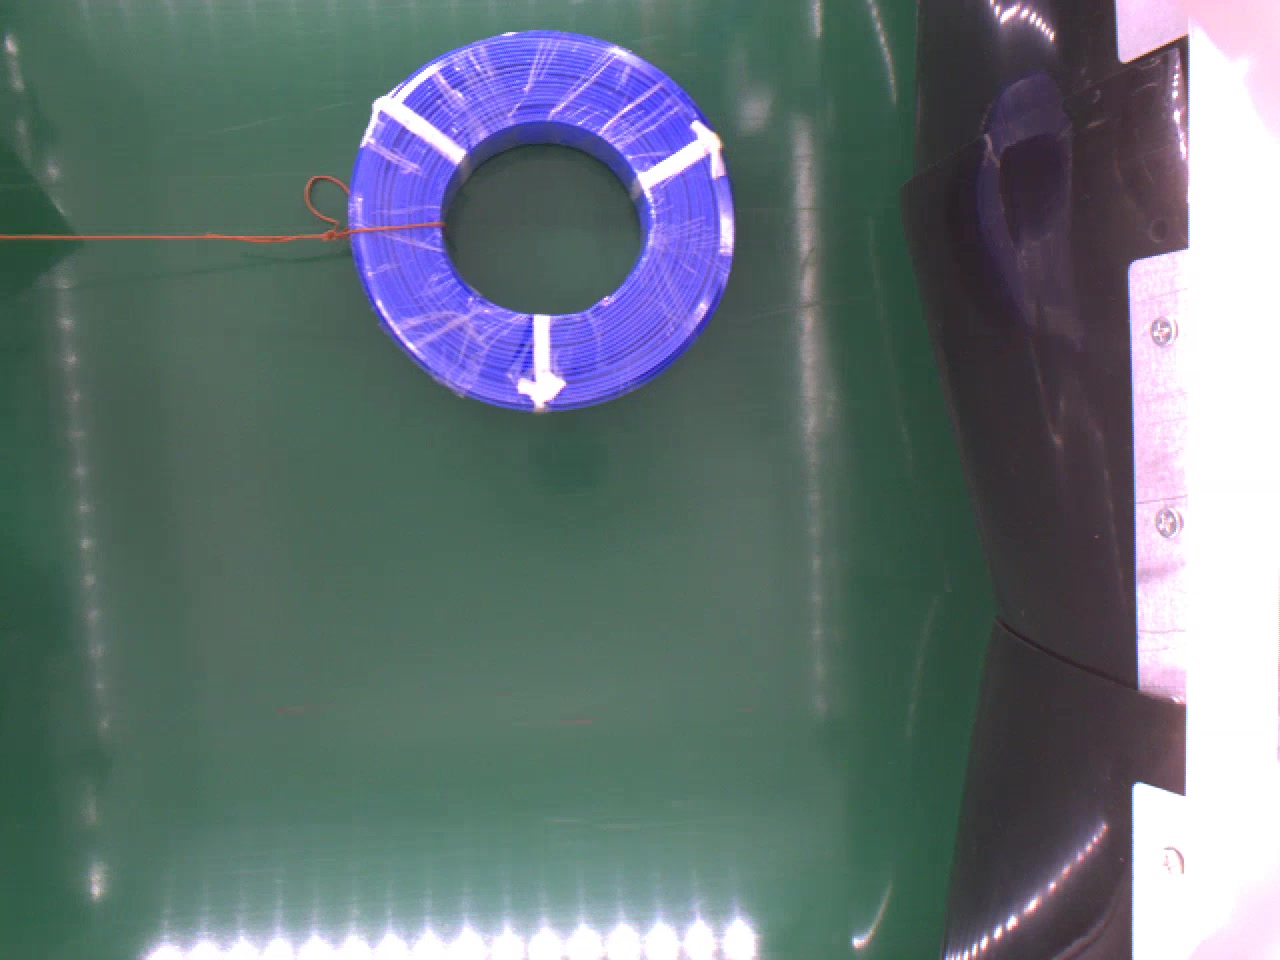blue: (347, 27, 737, 413)
